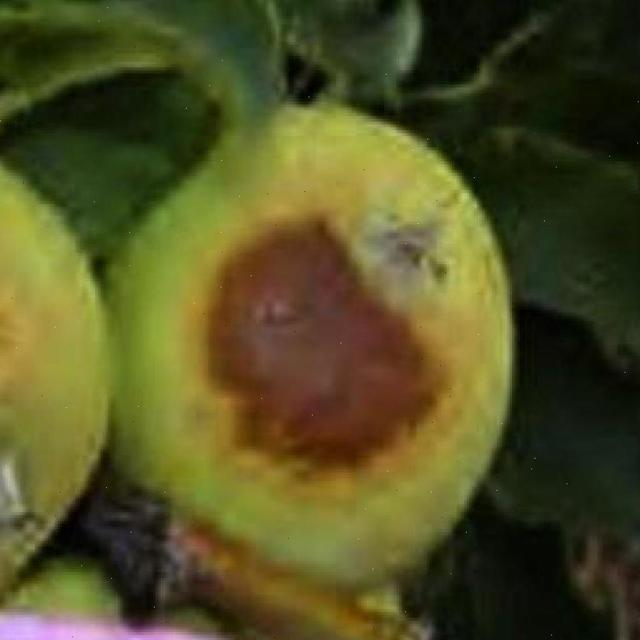Sunscald Fruit: (128, 139, 309, 318)
